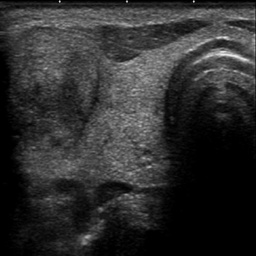mass: (13, 26, 98, 137)
